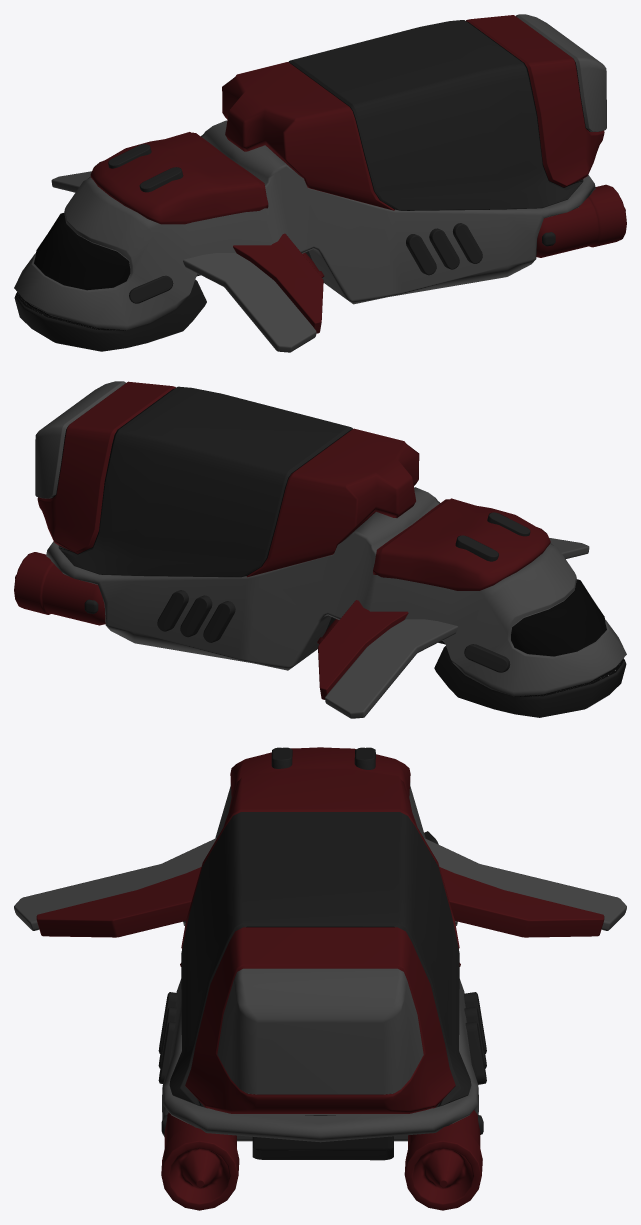
File: colony_æargo_ship.glb
The picture shows the model from 3 angles, top to bottom: view 1: azimuth 30°, elevation 25°; view 2: azimuth 150°, elevation 25°; view 3: azimuth 270°, elevation 25°; orthographic projection. The views are drawn at different scales.
Parts seen in each view (by area): view 1: Сargo_ship; view 2: Сargo_ship; view 3: Сargo_ship.
Part boxes in pixels (box(x1,y1,x2,y2)): Сargo_ship: box(14, 14, 626, 352); Сargo_ship: box(14, 381, 626, 718); Сargo_ship: box(14, 747, 626, 1210).
Bounding box in the file's own units: 974 × 310 × 702.
Materials: 1 (1 with a texture image).
